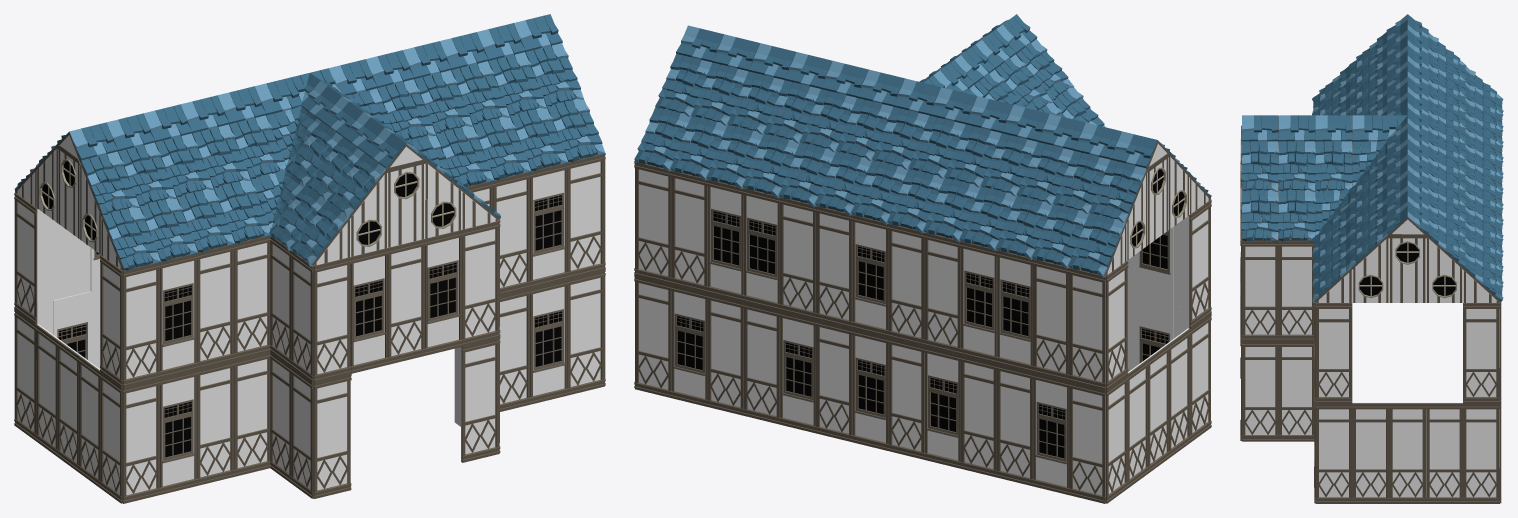
The model's file is House_16_parts.fbx.
3 renders of one model, left to right at view 1: azimuth 30°, elevation 25°; view 2: azimuth 150°, elevation 25°; view 3: azimuth 270°, elevation 25°, orthographic. The views are drawn at different scales.
Parts seen in each view (by area): view 1: WALL_01_14, WALL_01_15, WINDOW_04_6, WALL_01_13, WALL_01_2, WALL_01_3, WALL_01_8, WINDOW_04_11, WALL_01_40, WINDOW_04_12, WALL_01_41, WALL_01_16 (+79 smaller); view 2: WALL_01_50, WALL_01_25, WALL_01_53, WALL_01_30, WINDOW_04_9, WALL_01_28, WALL_01_54, WALL_01_31, WALL_01_56, WINDOW_04_16, WALL_01_55, WALL_01_24 (+76 smaller); view 3: WALL_01_45, WALL_01_46, WALL_01_43, WALL_01_44, WALL_01_47, WALL_01_33, WALL_01_34, WALL_01_42, WALL_01_48, WALL_01_35, WALL_01_32, ROOF_base_29 (+85 smaller).
Part boxes in pixels (x1,y1,x2,y2): WALL_01_14: (313,257,351,382); WALL_01_15: (387,239,425,364); WINDOW_04_6: (350,248,388,373); WALL_01_13: (122,263,160,387); WALL_01_2: (313,374,351,498); WALL_01_3: (461,337,499,462); WALL_01_8: (122,378,160,503); WINDOW_04_11: (530,164,567,288); WALL_01_40: (567,155,604,279); WINDOW_04_12: (530,279,567,404); WALL_01_41: (567,270,604,395); WALL_01_16: (462,221,499,346); WALL_01_50: (743,302,780,424); WALL_01_25: (996,364,1033,486); WALL_01_53: (815,205,852,328); WALL_01_30: (924,232,960,354); WINDOW_04_9: (960,241,997,363); WALL_01_28: (1069,267,1105,390); WALL_01_54: (779,197,816,319); WALL_01_31: (888,223,924,345); WALL_01_56: (634,161,671,284); WINDOW_04_16: (851,214,888,337); WALL_01_55: (671,170,707,292); WALL_01_24: (1069,381,1105,503); WALL_01_45: (1352,402,1389,503); WALL_01_46: (1389,402,1426,503); WALL_01_43: (1315,303,1352,403); WALL_01_44: (1315,403,1352,503); WALL_01_47: (1426,402,1462,503); WALL_01_33: (1242,240,1278,341); WALL_01_34: (1242,341,1278,441); WALL_01_42: (1463,303,1499,403); WALL_01_48: (1463,403,1499,503); WALL_01_35: (1278,341,1314,441); WALL_01_32: (1278,240,1314,341); ROOF_base_29: (1278,189,1315,241).
Size of the model in its own units: 1308 by 859 by 714.
